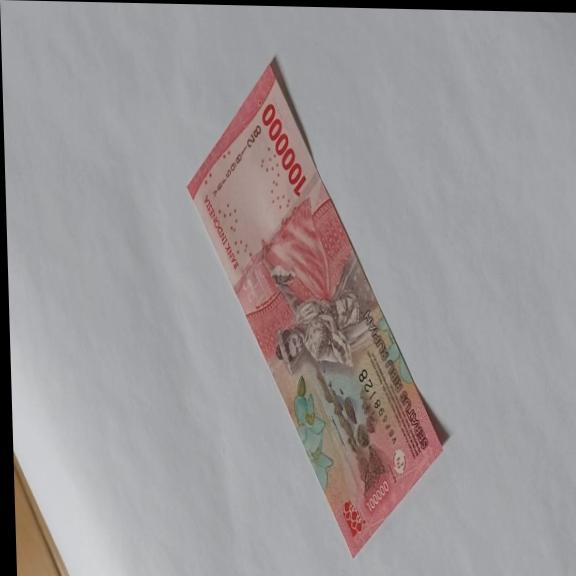Kertas: (183, 54, 448, 560), (261, 101, 307, 198)
